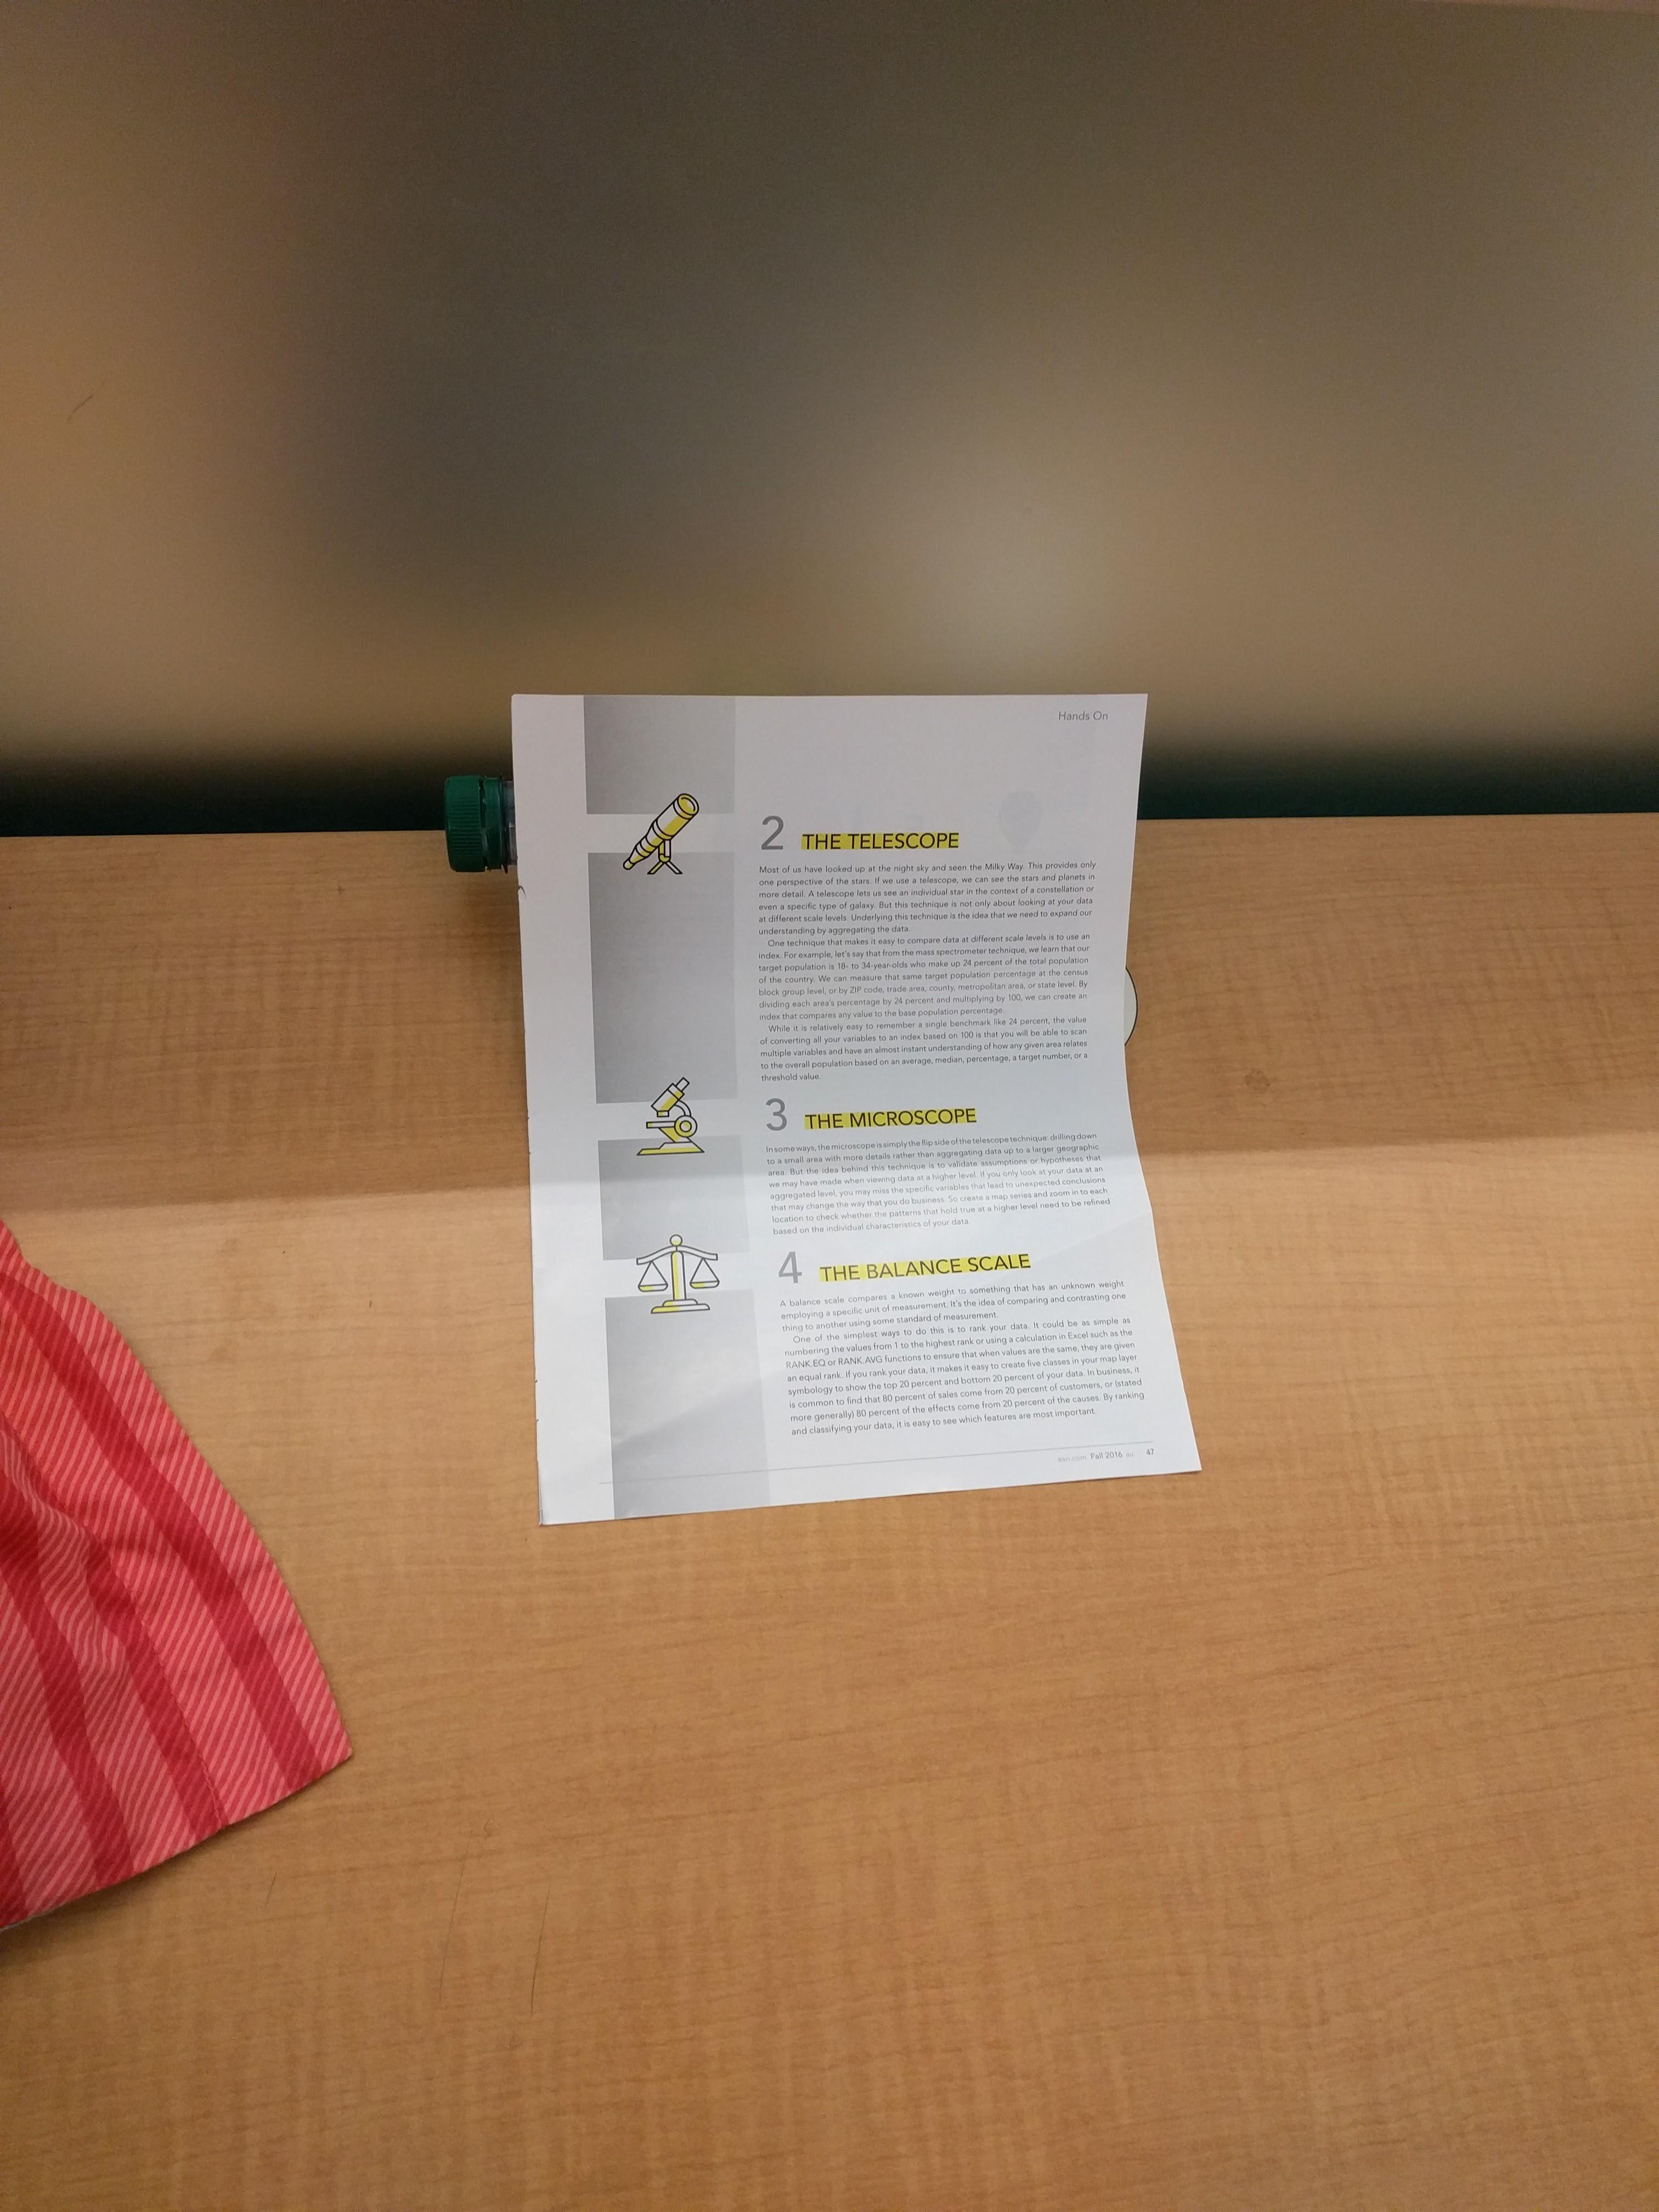paper: (258, 526, 1344, 1622)
